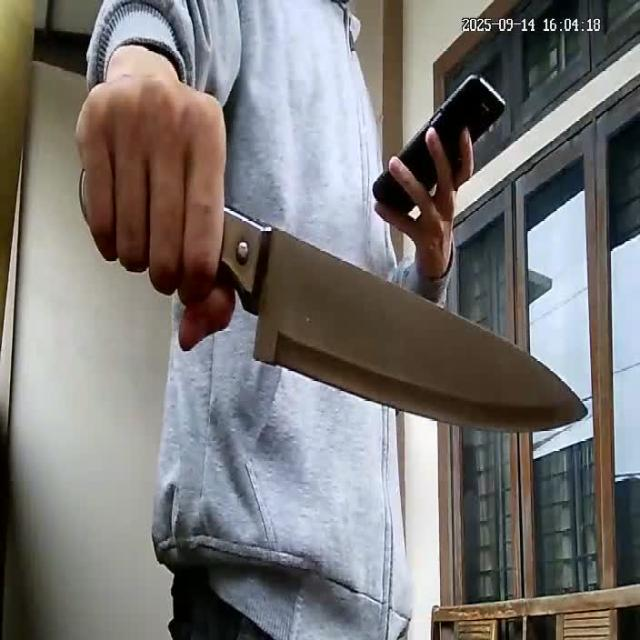senjata_tajam: (228, 209, 589, 435)
